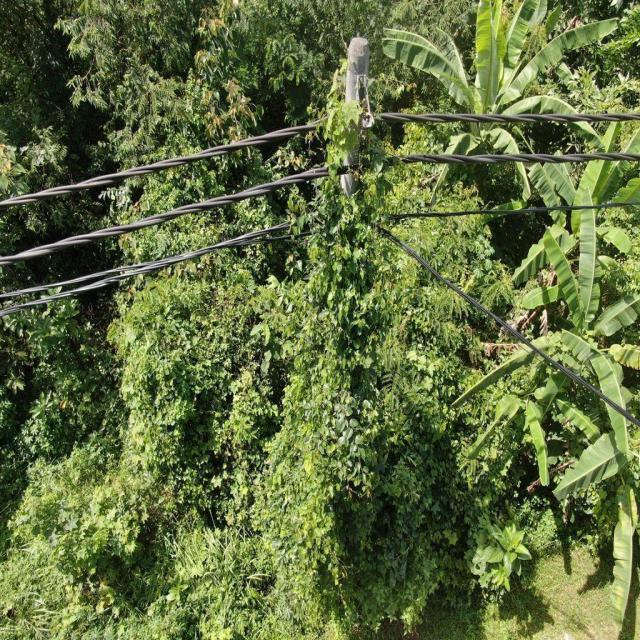critical vegetation: (271, 60, 422, 566)
